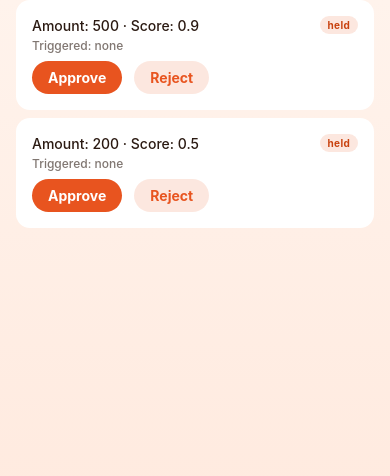
it: shows an error message and does not disable other rows when approve fails
Expected: the text "Amount: 500 · Score: 0.9" is shown, [32,16,199,34]
Click the button "Approve" below "500" at (77, 78), box [32,61,122,94]
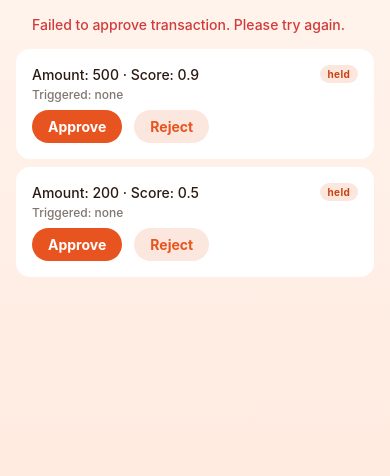
Result: the text "Failed to approve transaction. Please try again." is shown at [32,16,345,33]
Result: the text "Approve" is shown 2 times at [48,118,106,135]; [48,236,106,253]
